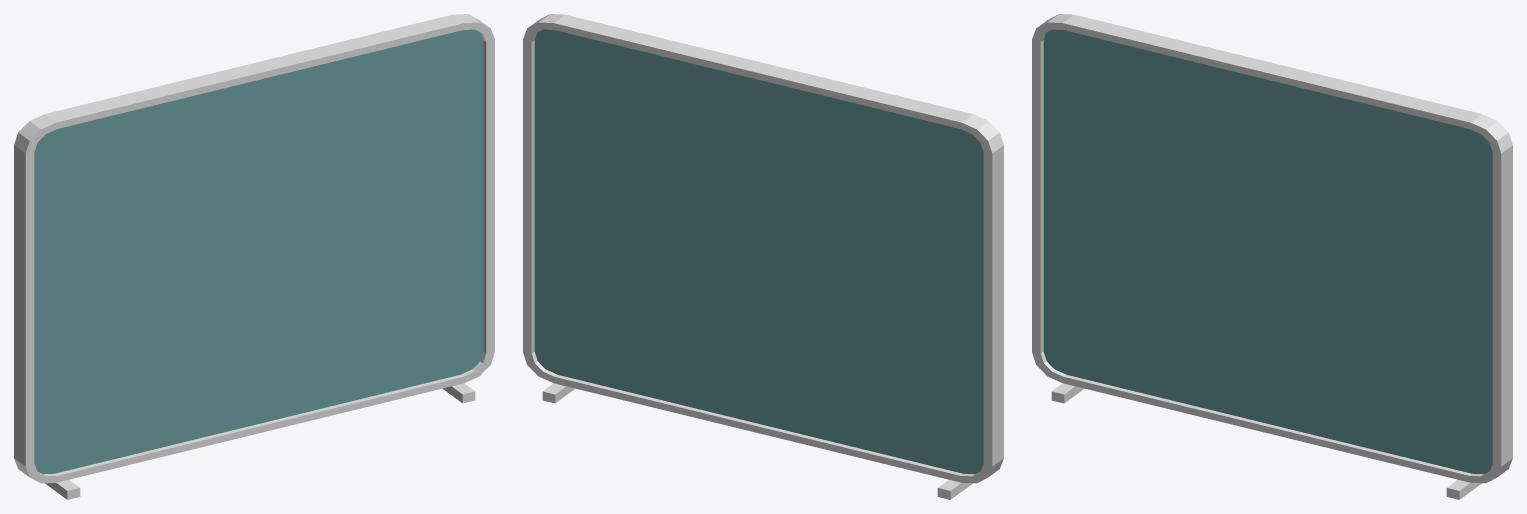
File: dividerwall1.fbx
3 views of the same model, side by side, from view 1: azimuth 30°, elevation 25°; view 2: azimuth 150°, elevation 25°; view 3: azimuth 330°, elevation 25° (orthographic).
Parts seen in each view (by area): view 1: Cube; view 2: Cube; view 3: Cube.
Part boxes in pixels (left/top/right/bottom): Cube: left=14, top=14, right=494, bottom=499; Cube: left=523, top=14, right=1003, bottom=499; Cube: left=1032, top=14, right=1512, bottom=499.
Bounding box in the file's own units: 449 × 56.13 × 337.
